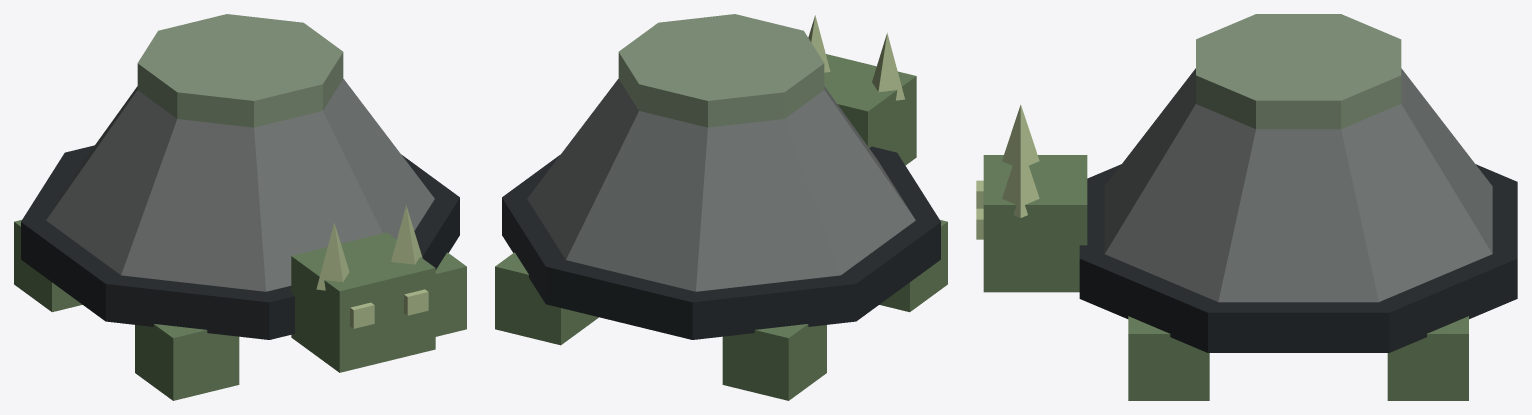
Rendered from shellback.glb.
The picture shows the model from 3 angles, left to right: view 1: azimuth 30°, elevation 25°; view 2: azimuth 150°, elevation 25°; view 3: azimuth 270°, elevation 25°; orthographic projection. The views are drawn at different scales.
Parts seen in each view (by area): view 1: Shell, Crown, Rim, Head, LegFR, LegFL, LegBR, HornR, HornL, EyeR, EyeL; view 2: Shell, Rim, Crown, LegBR, Head, LegBL, LegFR, HornR, HornL; view 3: Shell, Rim, Crown, Head, LegFL, LegBL, HornL, HornR.
Boxes of the visible parts, x1,y1,x2,y2 form: Shell: (46, 79, 434, 291); Crown: (137, 14, 343, 127); Rim: (21, 145, 459, 339); Head: (291, 232, 435, 372); LegFR: (135, 324, 239, 400); LegFL: (435, 252, 466, 336); LegBR: (14, 220, 82, 312); HornR: (316, 223, 349, 290); HornL: (391, 205, 422, 264); EyeR: (350, 302, 374, 328); EyeL: (404, 289, 428, 315); Shell: (527, 79, 915, 291); Rim: (502, 146, 940, 339); Crown: (618, 14, 824, 127); LegBR: (722, 324, 826, 400); Head: (824, 54, 916, 165); LegBL: (495, 252, 598, 345); LegFR: (879, 220, 947, 312); HornR: (872, 33, 904, 100); HornL: (808, 15, 830, 72); Shell: (1104, 68, 1492, 302); Rim: (1079, 164, 1517, 352); Crown: (1196, 14, 1401, 129); Head: (983, 155, 1087, 292); LegFL: (1128, 316, 1209, 400); LegBL: (1387, 316, 1468, 400); HornL: (1002, 142, 1039, 217); HornR: (1002, 104, 1039, 165).
Bounding box in the file's own units: 1.18 × 0.795 × 1.46.
